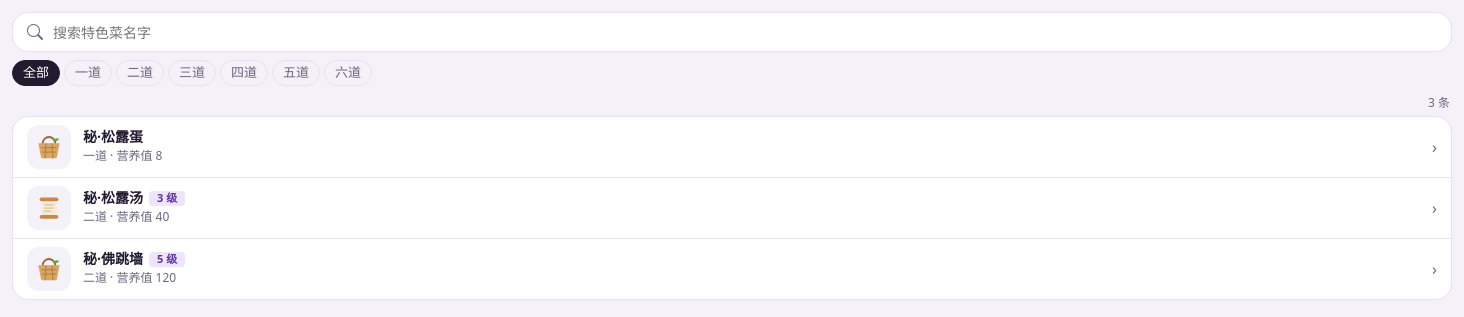
Test: 游戏资料列表（问题记录 142） › 特色菜（2026-10-17）：按等级排，按道筛选；选了一道写这一道当令的天气
Expected: the link with test id "wiki-row-8" shows "二道 · 营养值 40", left=13, top=176, right=1451, bottom=238
Click the button with test id "wiki-filter-2".
click(140, 73)  # box left=116, top=60, right=164, bottom=86
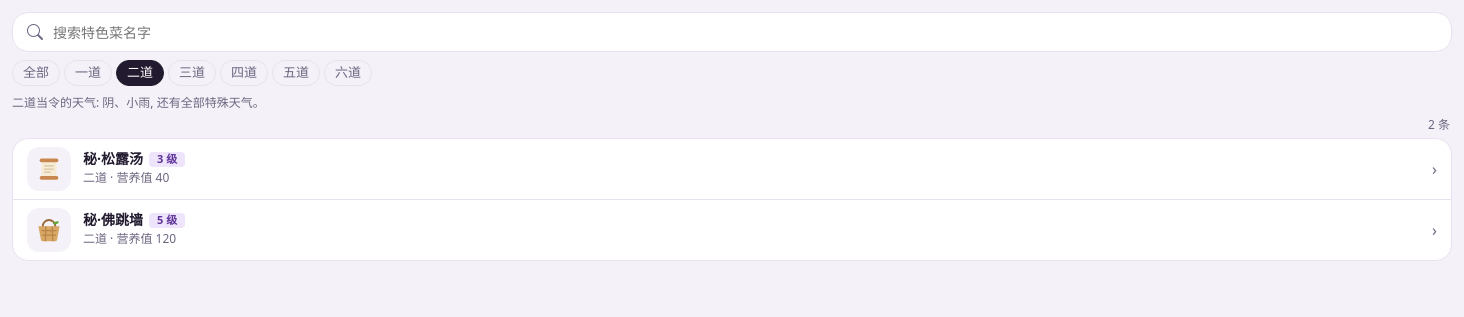
Expected: the text with test id "wiki-road-season" reads "二道当令的天气: 阴、小雨, 还有全部特殊天气。", left=12, top=94, right=265, bottom=110
